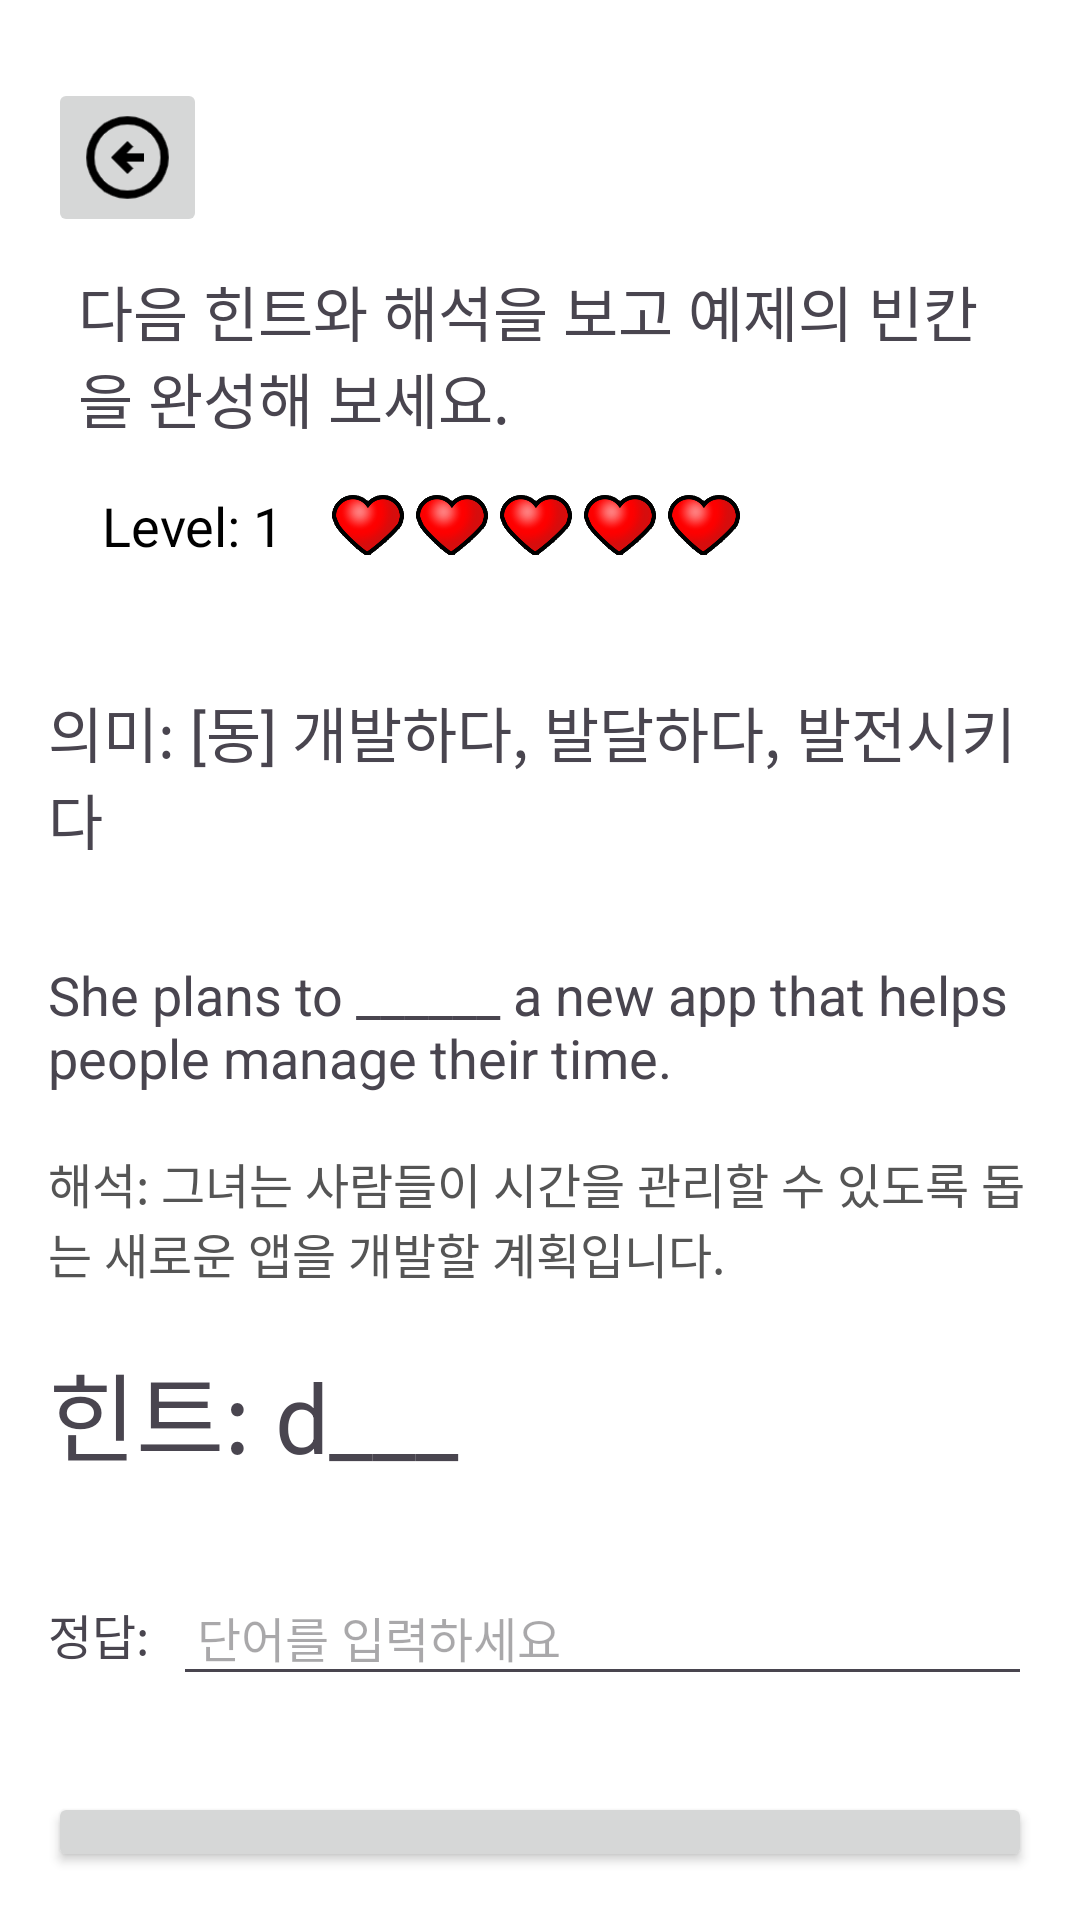

Where to tap for icons on this 1080 × 1920 app screen, as (x,y):
back: (127,157)
full life: (368,525), (452,525), (536,525), (620,525), (704,525)
